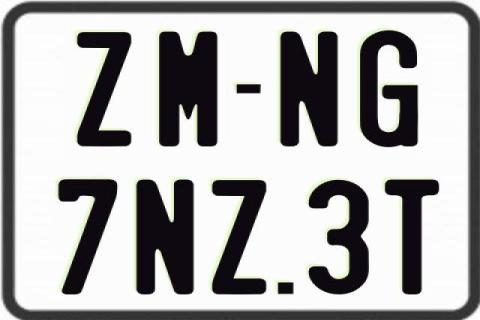0: (306, 180, 370, 294), (59, 179, 118, 295)
G: (357, 29, 419, 148)
M: (156, 30, 216, 146)
N: (279, 29, 343, 149), (134, 178, 192, 296)
T: (384, 179, 440, 297)
Z: (212, 180, 271, 298), (75, 32, 133, 150)
